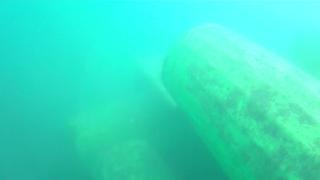pipe: (159, 20, 320, 180), (66, 91, 182, 180)
